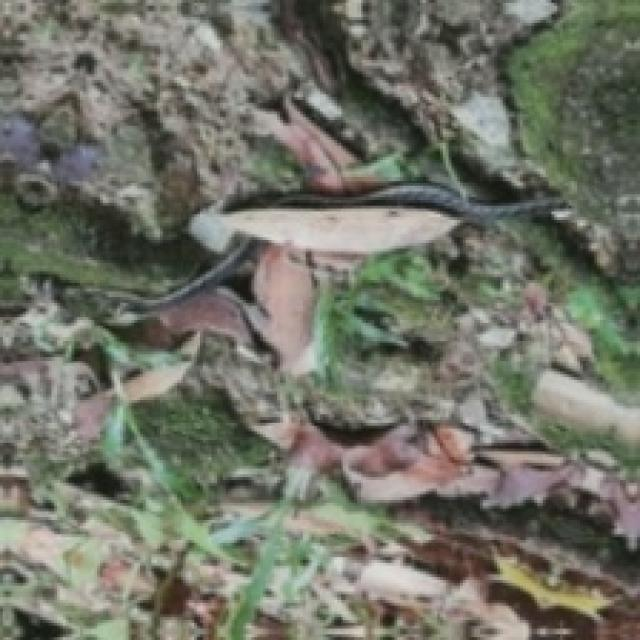king cobra: (62, 241, 256, 326), (281, 182, 569, 223)
